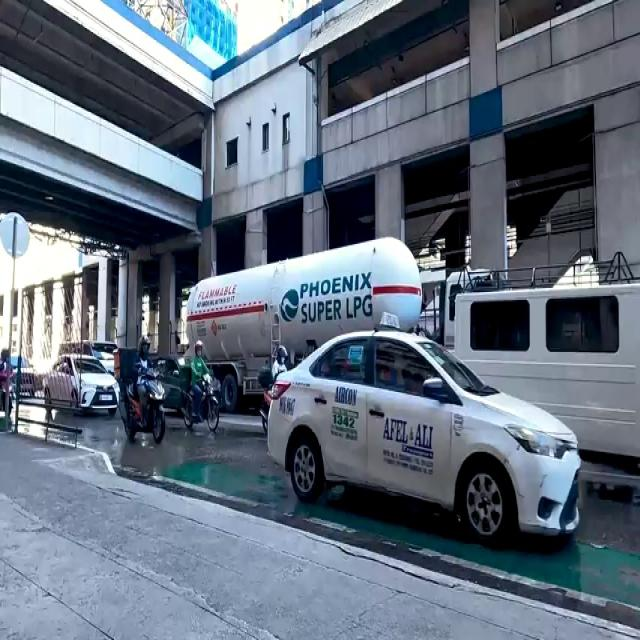car: (283, 338, 563, 532), (449, 287, 640, 456), (47, 354, 122, 418)
motorcycle: (125, 340, 170, 442), (186, 346, 219, 434)
truck: (192, 236, 488, 404)
